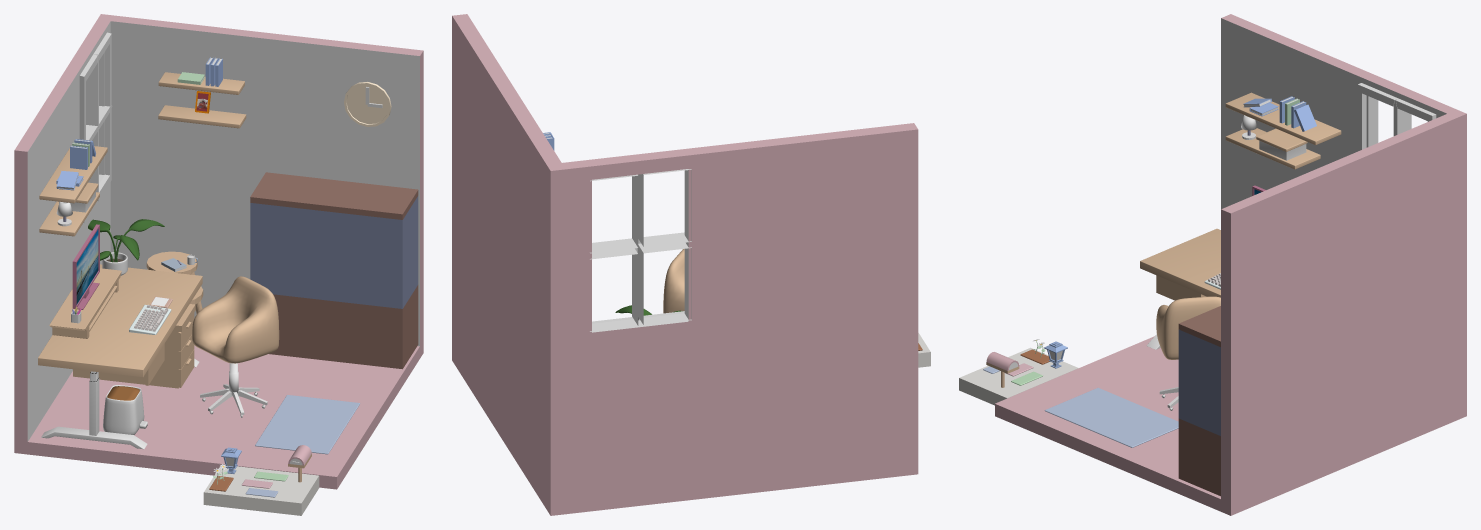
The model's file is 0922_practice_final.glb.
3 renders of one model, left to right at view 1: azimuth 30°, elevation 25°; view 2: azimuth 150°, elevation 25°; view 3: azimuth 270°, elevation 25°, orthographic. The views are drawn at different scales.
Parts seen in each view (by area): view 1: Body.001, AquaGlass, Aquarium.001, Desks.001, FloorItems.001, Shelves.001, Chair.001, TableStuff.001, MiniFloor.001, Clock.001, Screen, Computer.001; view 2: Body.001, Chair.001; view 3: Body.001, Shelves.001, FloorItems.001, Desks.001, AquaGlass, Aquarium.001, MiniFloor.001, Chair.001.
Boxes of the visible parts, left/top/right/bottom form: Body.001: left=14, top=14, right=423, bottom=489; AquaGlass: left=250, top=196, right=418, bottom=308; Aquarium.001: left=250, top=172, right=418, bottom=369; Desks.001: left=38, top=251, right=203, bottom=449; FloorItems.001: left=73, top=304, right=360, bottom=454; Shelves.001: left=39, top=57, right=246, bottom=236; Chair.001: left=192, top=276, right=279, bottom=363; TableStuff.001: left=49, top=219, right=197, bottom=338; MiniFloor.001: left=203, top=464, right=319, bottom=515; Clock.001: left=344, top=82, right=391, bottom=126; Screen: left=76, top=229, right=98, bottom=304; Computer.001: left=72, top=224, right=99, bottom=309; Body.001: left=452, top=14, right=918, bottom=515; Chair.001: left=663, top=249, right=684, bottom=313; Body.001: left=995, top=14, right=1466, bottom=515; Shelves.001: left=1225, top=92, right=1341, bottom=169; FloorItems.001: left=1044, top=387, right=1178, bottom=447; Desks.001: left=1140, top=228, right=1220, bottom=349; AquaGlass: left=1178, top=329, right=1220, bottom=435; Aquarium.001: left=1178, top=306, right=1220, bottom=496; MiniFloor.001: left=959, top=347, right=1078, bottom=405; Chair.001: left=1156, top=296, right=1220, bottom=359.
Bounding box in the file's own units: 12.05 × 8.53 × 12.97.
42 materials, 2 textured.
